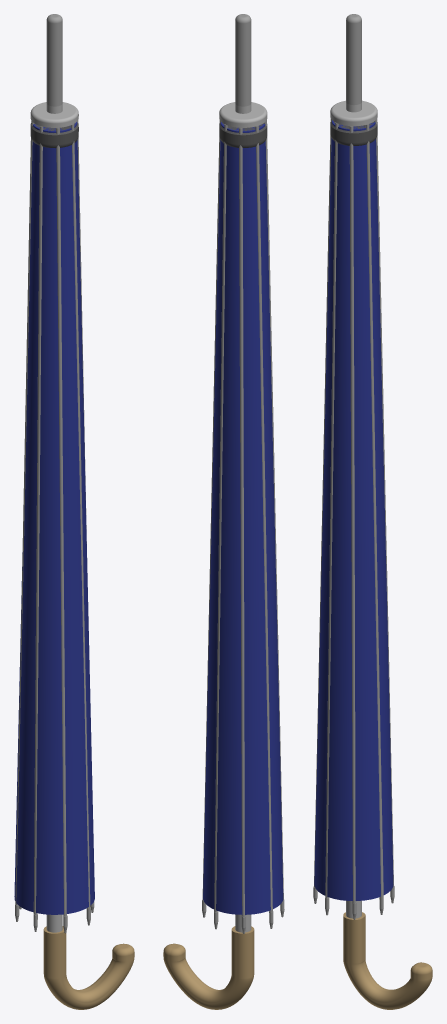
The model's file is umbrella version3 v2.fbx.
3 renders of one model, left to right at view 1: azimuth 30°, elevation 25°; view 2: azimuth 150°, elevation 25°; view 3: azimuth 330°, elevation 25°, orthographic.
Parts seen in each view (by area): view 1: Body93, Body41, Body104, Body109, Body115, Body2, Body110, Body3, Body35, Body114, Body13; view 2: Body93, Body41, Body111, Body110, Body112, Body2, Body109, Body113, Body3, Body35, Body13; view 3: Body93, Body41, Body115, Body104, Body114, Body2, Body113, Body109, Body3, Body35, Body102, Body13.
Part boxes in pixels (x1,y1,x2,y2): Body93: [14, 122, 94, 914]; Body41: [43, 926, 134, 1009]; Body104: [56, 127, 66, 916]; Body109: [33, 126, 43, 914]; Body115: [70, 124, 90, 909]; Body2: [46, 14, 62, 106]; Body110: [15, 120, 34, 904]; Body3: [30, 102, 78, 127]; Body35: [30, 123, 78, 148]; Body114: [77, 120, 86, 543]; Body13: [46, 104, 62, 932]; Body93: [203, 122, 283, 914]; Body41: [163, 926, 254, 1009]; Body111: [239, 128, 245, 917]; Body110: [255, 125, 272, 912]; Body112: [214, 124, 227, 912]; Body2: [235, 14, 251, 106]; Body109: [263, 120, 283, 899]; Body113: [202, 120, 220, 900]; Body3: [219, 102, 267, 127]; Body35: [219, 123, 267, 147]; Body13: [235, 104, 251, 932]; Body93: [314, 120, 393, 900]; Body41: [343, 912, 432, 1009]; Body115: [349, 126, 356, 903]; Body104: [325, 122, 338, 898]; Body114: [366, 124, 380, 899]; Body2: [346, 14, 361, 105]; Body113: [374, 118, 393, 886]; Body109: [314, 118, 331, 886]; Body3: [330, 100, 377, 126]; Body35: [330, 121, 377, 145]; Body102: [364, 124, 383, 899]; Body13: [346, 102, 361, 918].
Bounding box in the file's own units: 8.14 × 68.66 × 5.02.
